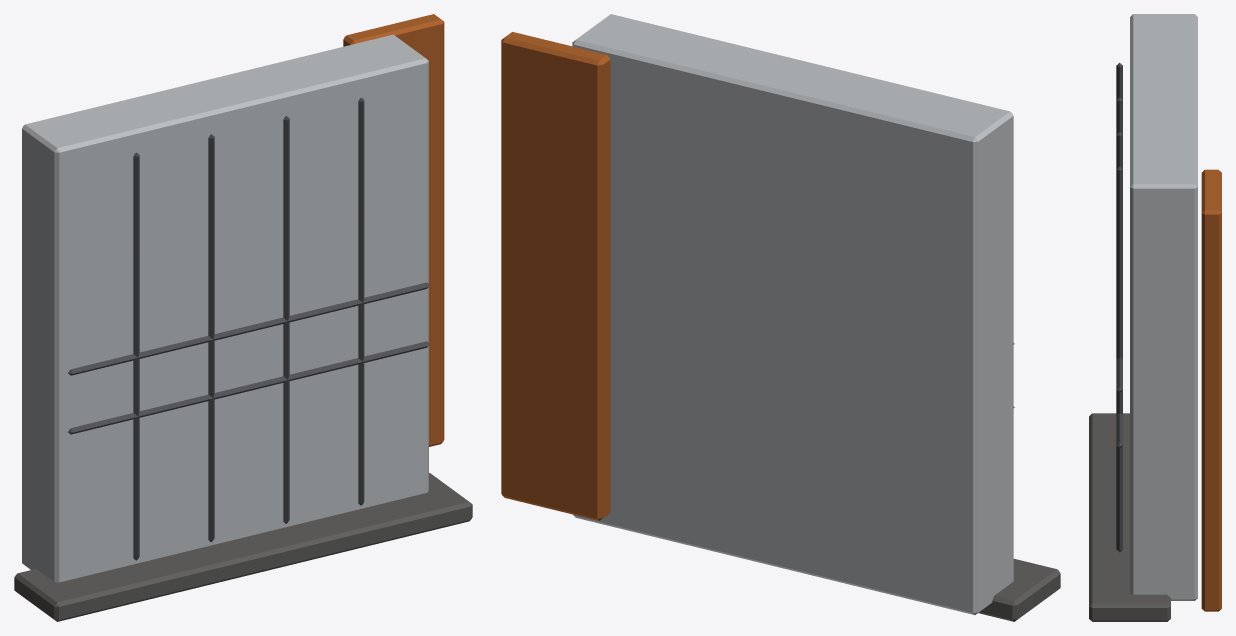
File: PRP_Window_ND_v001.glb
3 renders of one model, left to right at view 1: azimuth 30°, elevation 25°; view 2: azimuth 150°, elevation 25°; view 3: azimuth 270°, elevation 25°, orthographic. The views are drawn at different scales.
Parts seen in each view (by area): view 1: PRP_Window_ND_v001; view 2: PRP_Window_ND_v001; view 3: PRP_Window_ND_v001.
Boxes of the visible parts, x1,y1,x2,y2 form: PRP_Window_ND_v001: (14, 14, 472, 621); PRP_Window_ND_v001: (501, 14, 1060, 621); PRP_Window_ND_v001: (1089, 14, 1221, 621).
Size of the model in its own units: 1.44 by 1.39 by 0.39.
